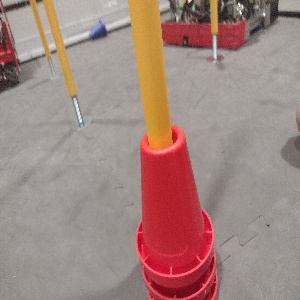Blue_1: (86, 18, 108, 40)
Red_3: (132, 121, 218, 299)
